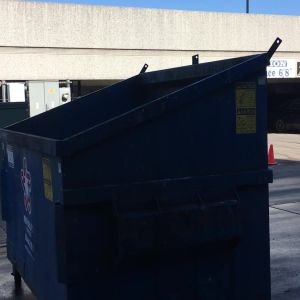Dumpster: (1, 34, 298, 300)
